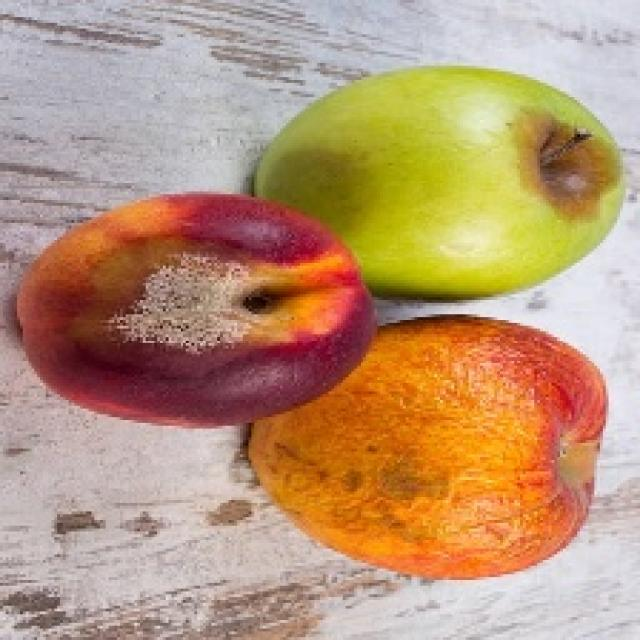100-_ripeness: (376, 348, 594, 574)
rotten_apple: (16, 201, 365, 417), (391, 70, 626, 294)
